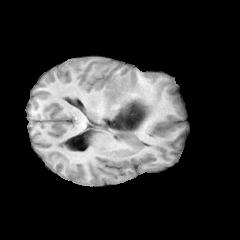glioma: (103, 73, 150, 139)
